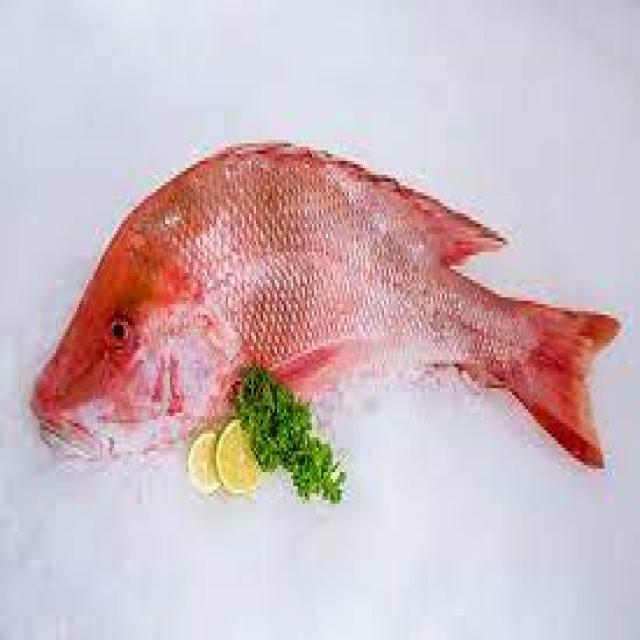northern-red-snapper: (24, 118, 619, 520)
